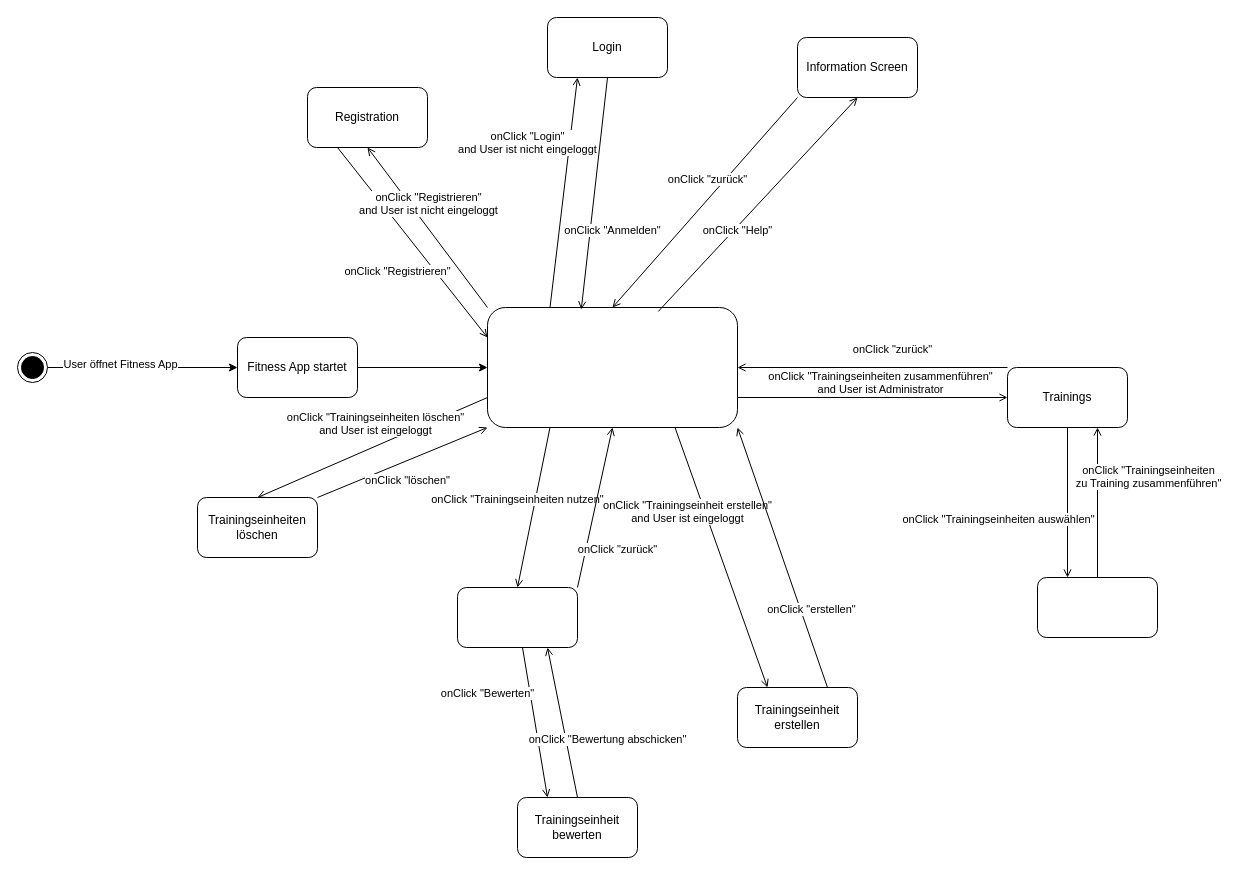
This 1238x875 diagram has some shape labels left out. Here are the shapes that lost their labels. From the top down, the box of each, then its label:
(486, 306, 738, 428): Home Screen
(456, 586, 578, 648): Trainingseinheiten nutzen
(1036, 576, 1158, 638): Trainingseinheiten selektionieren
